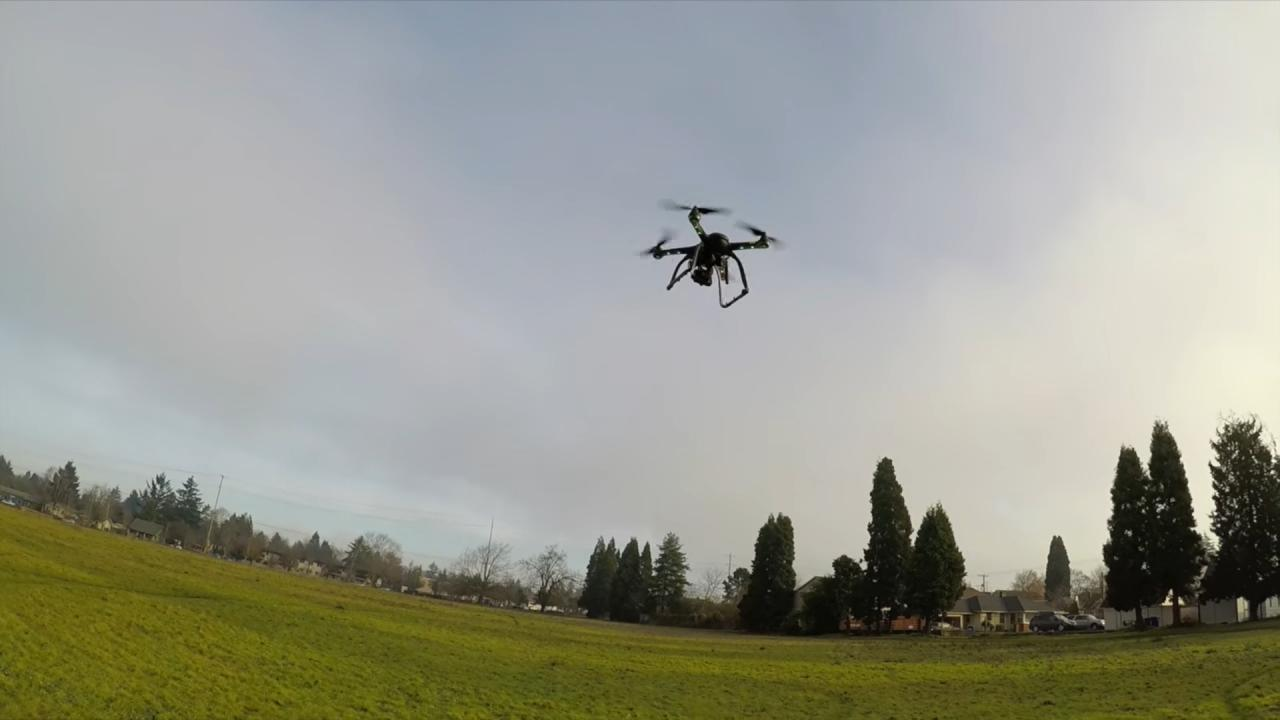Drone: (625, 187, 796, 319)
